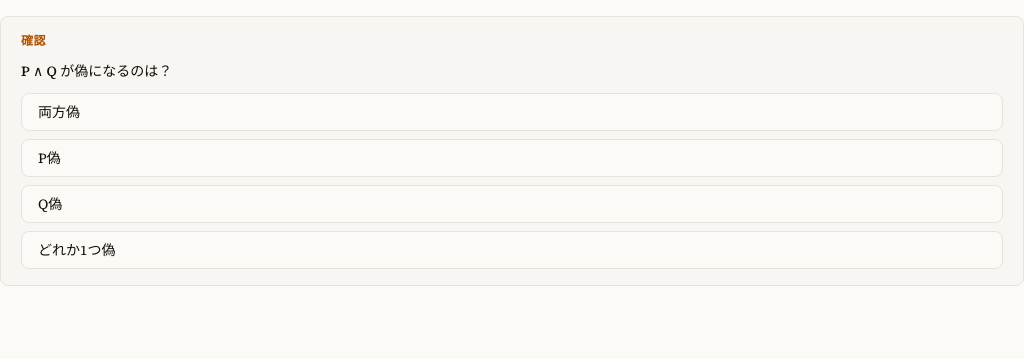
Test: InlineMiniQuiz › reveals explanation after correct answer
Click the button "どれか1つ偽" at (77, 250), box [21, 231, 1003, 269]
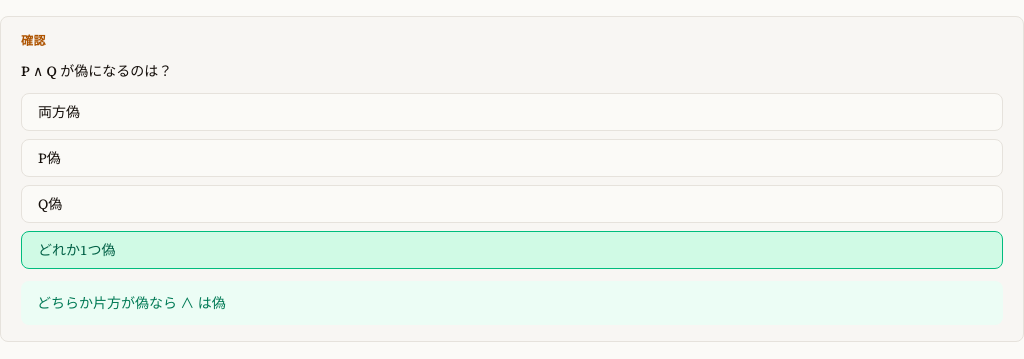
Now the text "どちらか片方が偽なら ∧ は偽" is shown, box [21, 281, 1003, 325]
